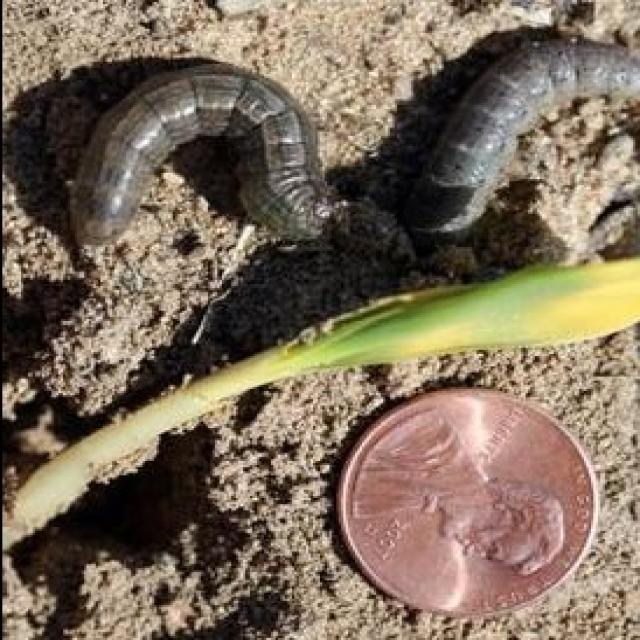army worm: (64, 53, 344, 282), (407, 27, 640, 255)
